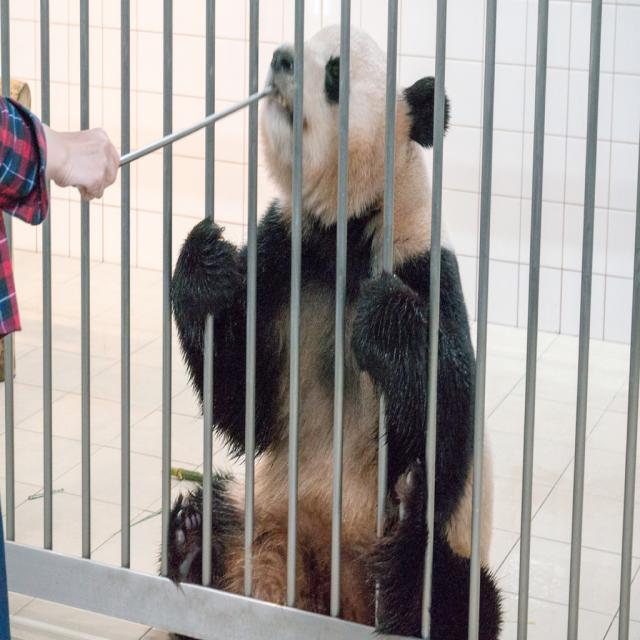panda: (156, 18, 500, 639)
